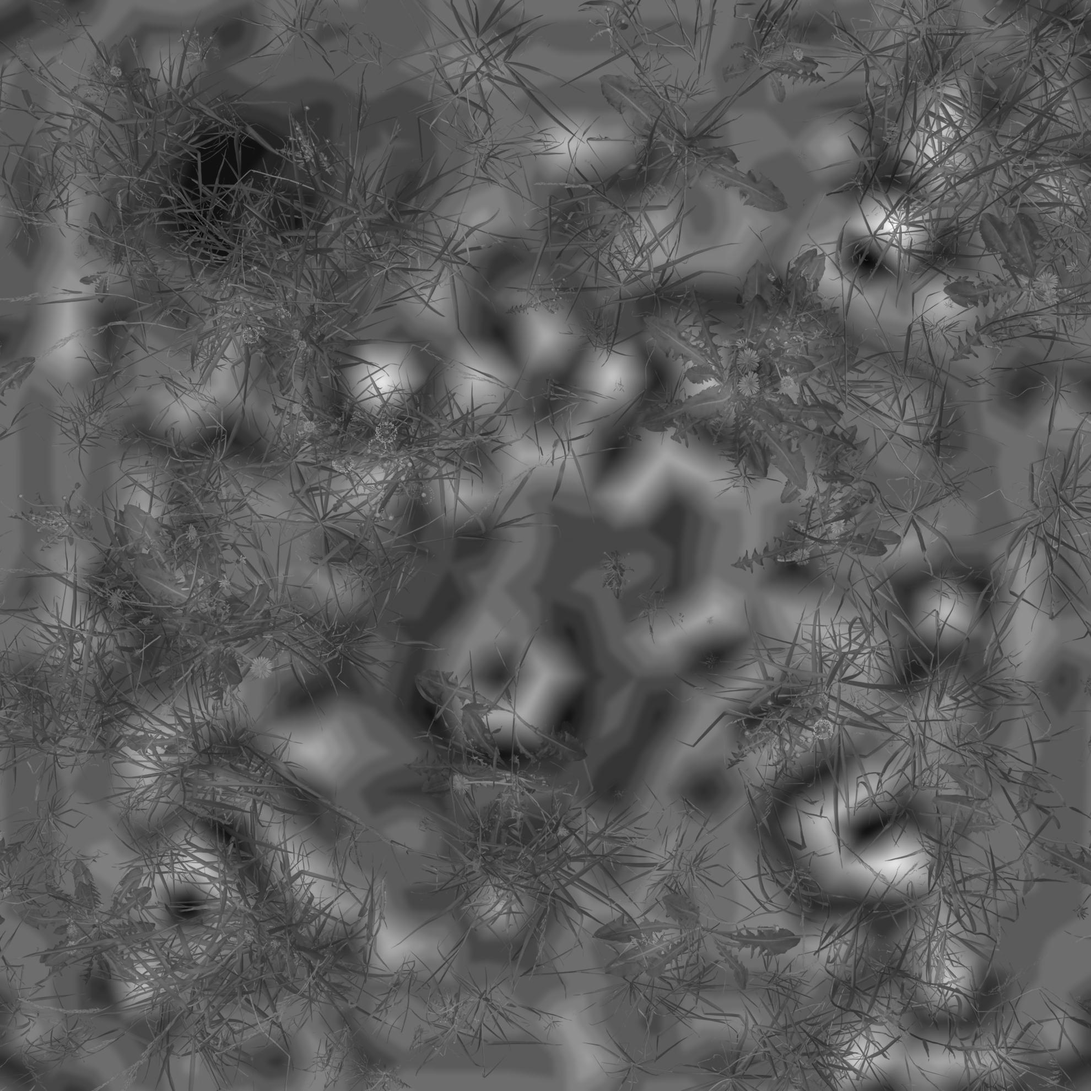landmine: (405, 571, 605, 766), (166, 110, 310, 253)
